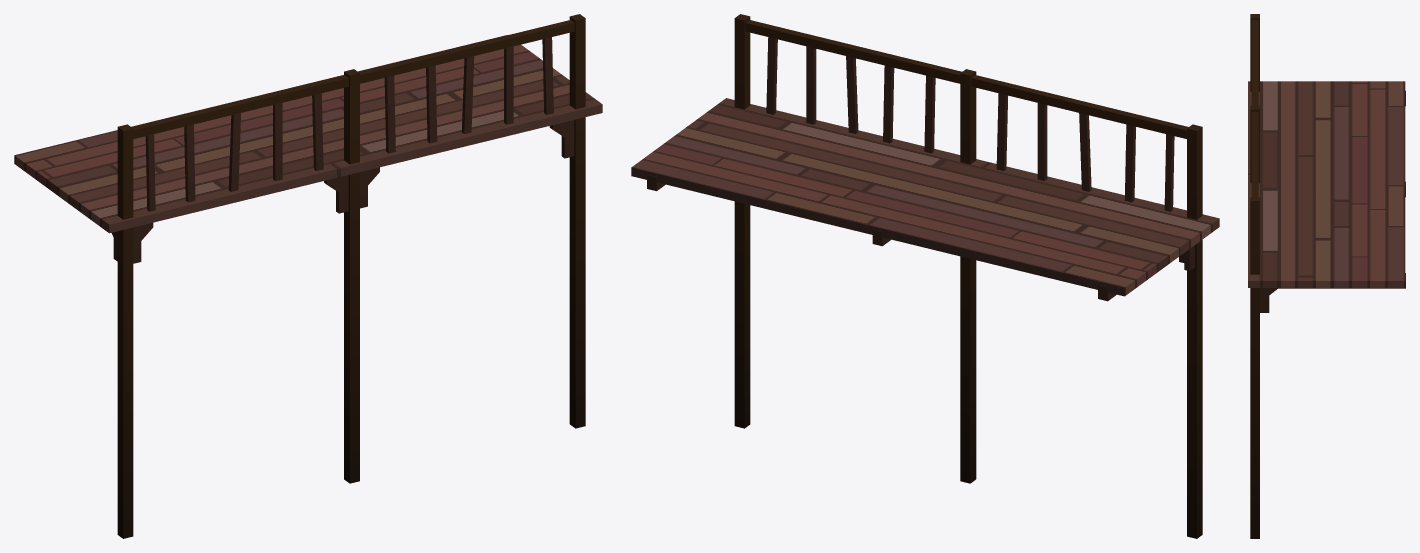
File: Deck 6M v08.glb
The picture shows the model from 3 angles, left to right: view 1: azimuth 30°, elevation 25°; view 2: azimuth 150°, elevation 25°; view 3: azimuth 270°, elevation 25°; orthographic projection. The views are drawn at different scales.
Visible parts, largest first — view 1: Deck 6M v08; view 2: Deck 6M v08; view 3: Deck 6M v08.
Part boxes in pixels (x1=…): Deck 6M v08: x1=14, y1=14, x2=602, y2=538; Deck 6M v08: x1=631, y1=14, x2=1219, y2=538; Deck 6M v08: x1=1248, y1=14, x2=1405, y2=538.
Size of what is drawn, in the model's own units: 6 by 4.74 by 2.01.
Materials: 2 (2 with a texture image).
